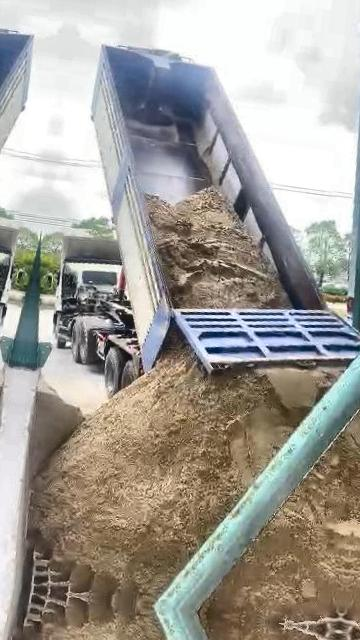sand: (28, 330, 342, 605), (199, 405, 360, 631), (148, 190, 290, 308)
